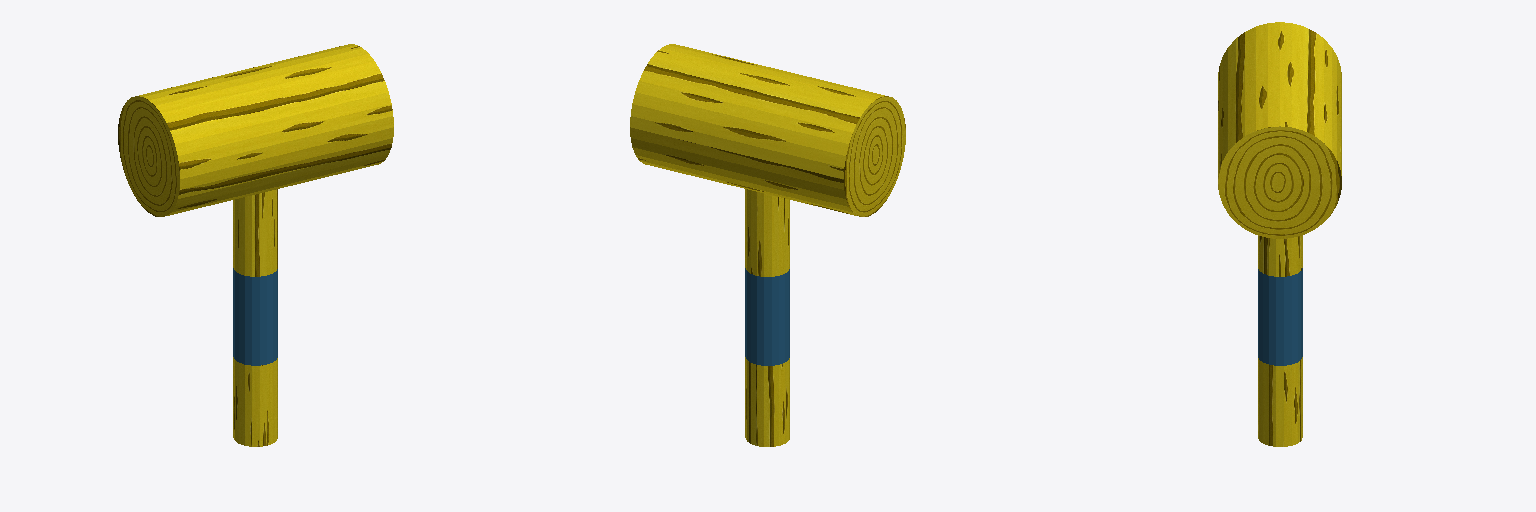
3 views of the same model, side by side, from view 1: azimuth 30°, elevation 25°; view 2: azimuth 150°, elevation 25°; view 3: azimuth 270°, elevation 25° (orthographic).
Parts seen in each view (by area): view 1: mazo2, mango2; view 2: mazo2, mango2; view 3: mazo2, mango2.
Boxes of the visible parts, x1,y1,x2,y2 form: mazo2: [118, 44, 393, 216]; mango2: [233, 189, 277, 446]; mazo2: [630, 44, 905, 216]; mango2: [745, 189, 789, 446]; mazo2: [1218, 22, 1341, 238]; mango2: [1258, 235, 1302, 446].
Size of the model in its own units: 1.1 by 1.79 by 0.5566.
2 materials, 2 textured.